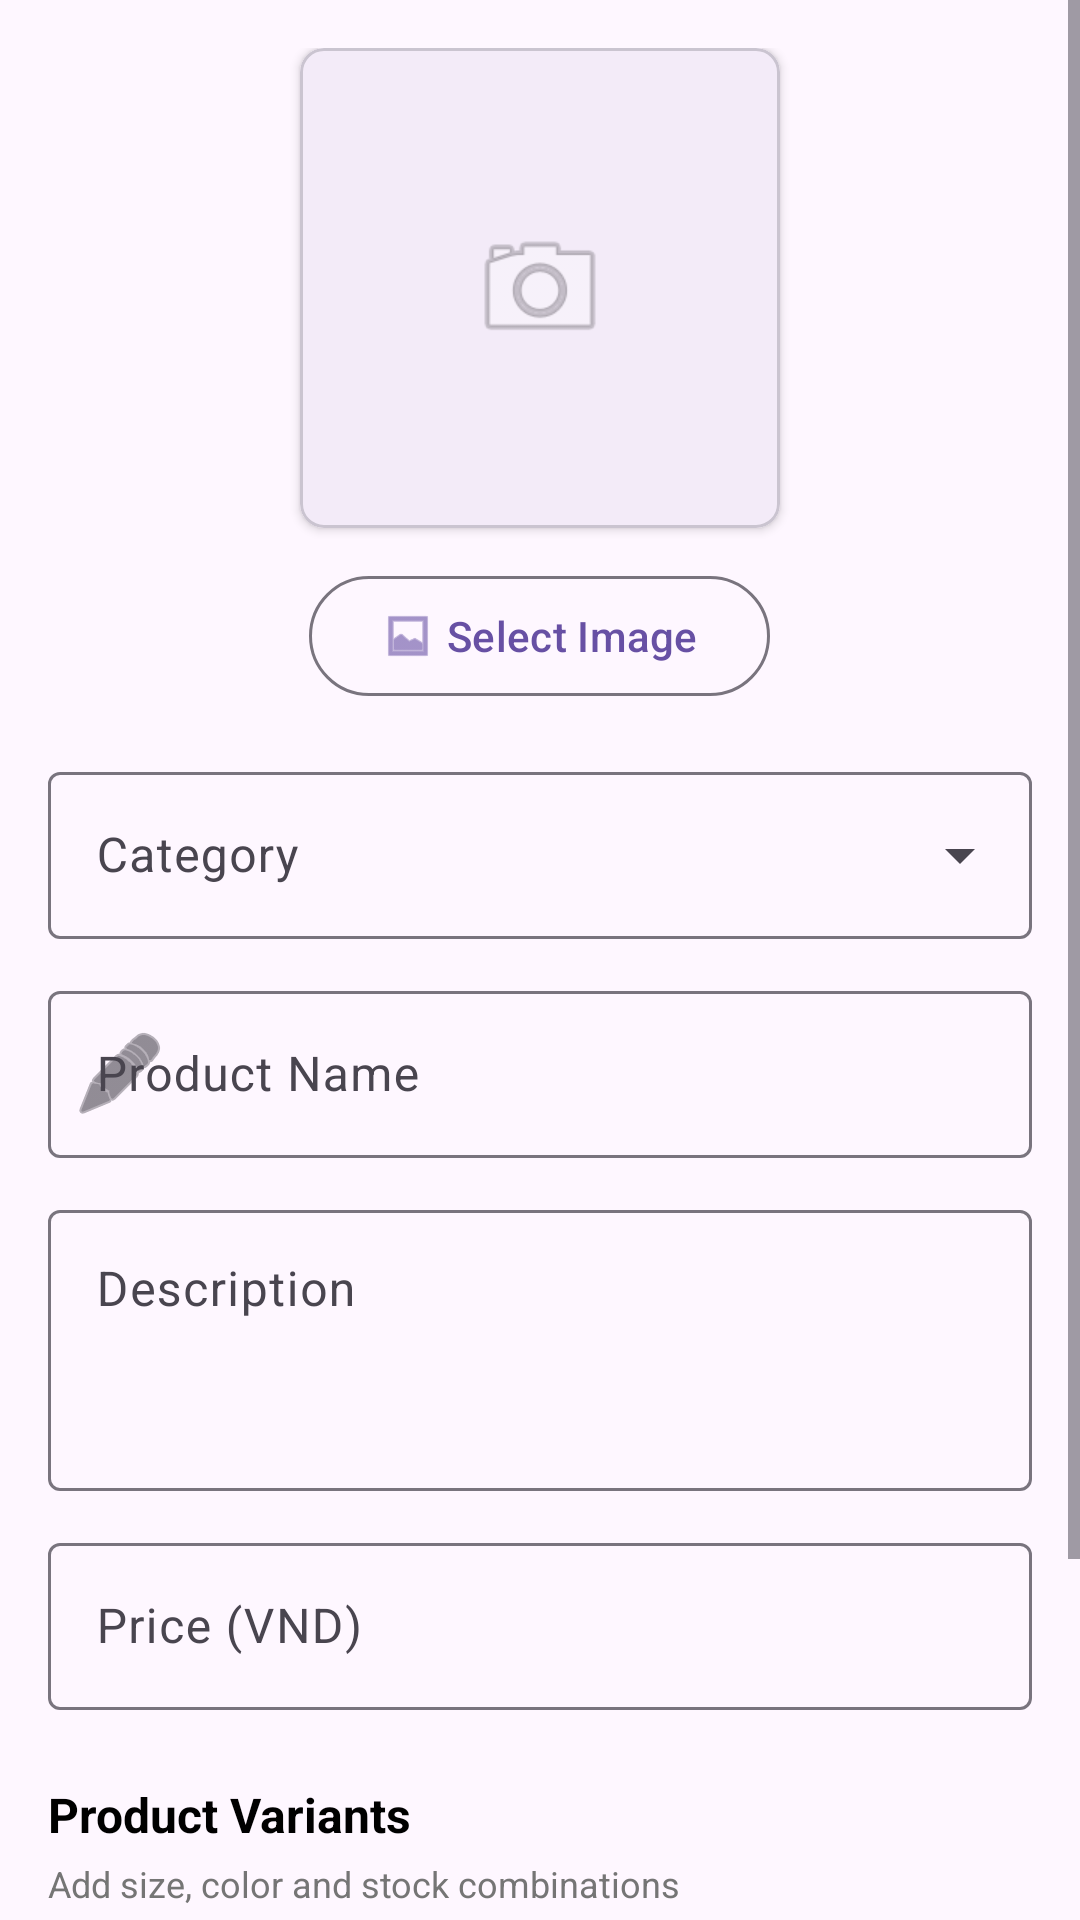

Screen size 1080 × 1920. Icon name, then its center in pixels as point (x, y):
camera: point (540, 286)
